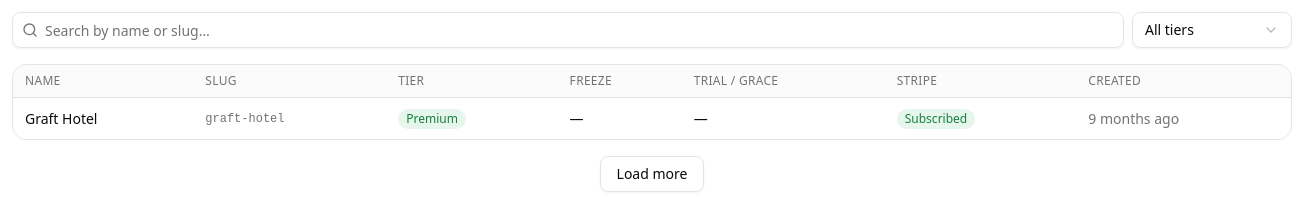
Test: TenantTable › AC6 — 'load more' advances via meta.cursor and never renders a duplicate row
Expected: the link "Graft Hotel" is shown, [25,108,98,128]
Click the button "Load more" at (652, 174), box [600,156,704,192]
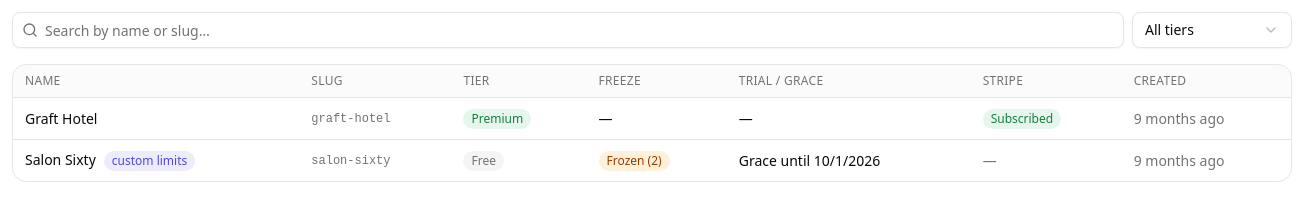
Result: the link "Salon Sixty" is shown at [25,150,96,169]
Result: the number of links "Graft Hotel" is 1 at [25,108,98,128]
Result: the button "Load more" is gone
